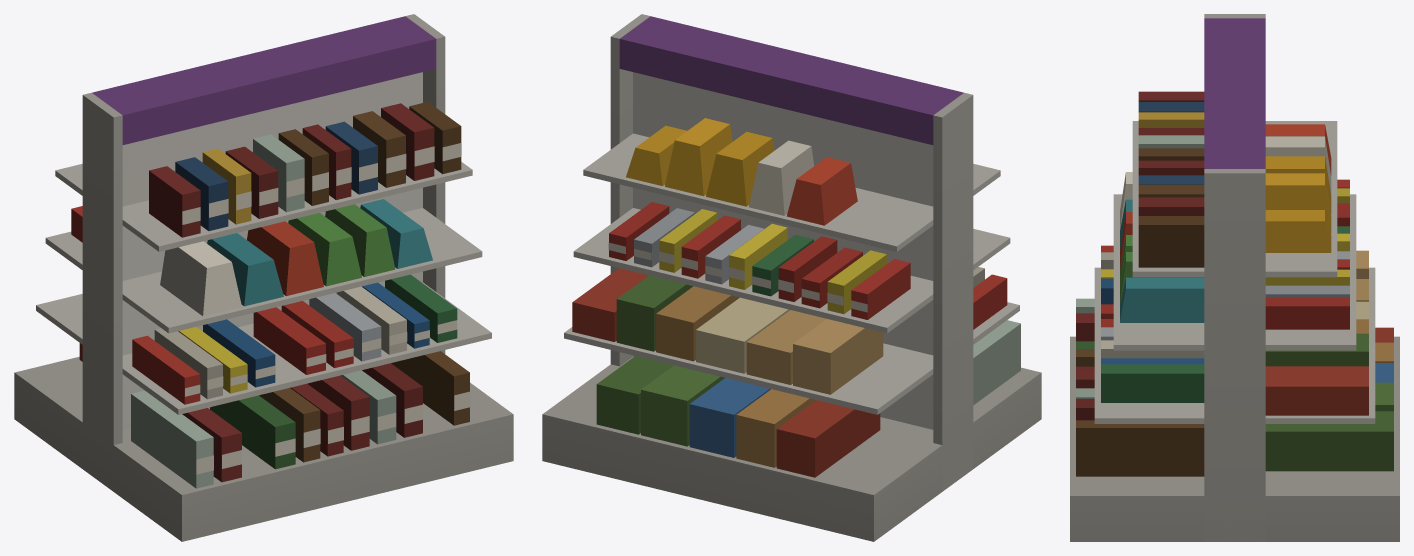
File: shelf.gondola_snack.mixed.glb
The picture shows the model from 3 angles, left to right: view 1: azimuth 30°, elevation 25°; view 2: azimuth 150°, elevation 25°; view 3: azimuth 270°, elevation 25°; orthographic projection.
Parts seen in each view (by area): view 1: shelf_gondola_snack_mixed; view 2: shelf_gondola_snack_mixed; view 3: shelf_gondola_snack_mixed.
Part boxes in pixels (x1=…): shelf_gondola_snack_mixed: x1=14, y1=14, x2=513, y2=541; shelf_gondola_snack_mixed: x1=542, y1=14, x2=1041, y2=541; shelf_gondola_snack_mixed: x1=1070, y1=14, x2=1399, y2=541.
Size of what is drawn, in the model's own units: 1.85 by 2 by 1.62.
